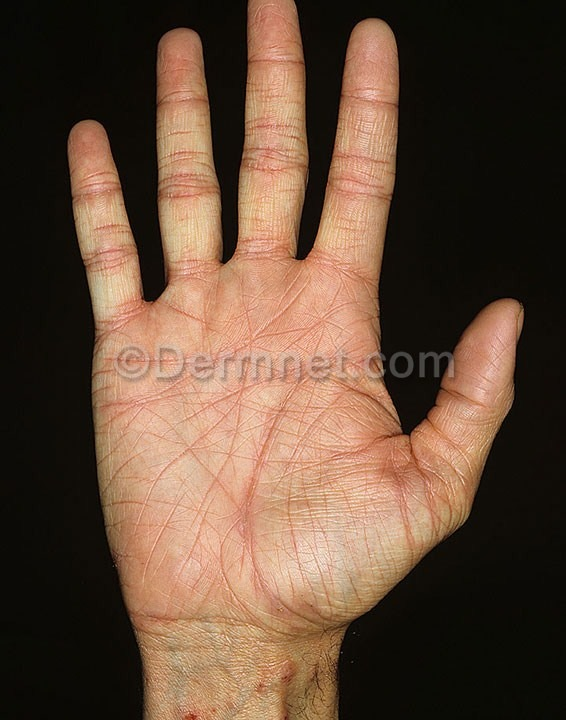Eczema: (148, 30, 230, 276), (240, 1, 312, 261), (341, 14, 399, 270), (76, 115, 140, 315), (152, 639, 320, 715)
